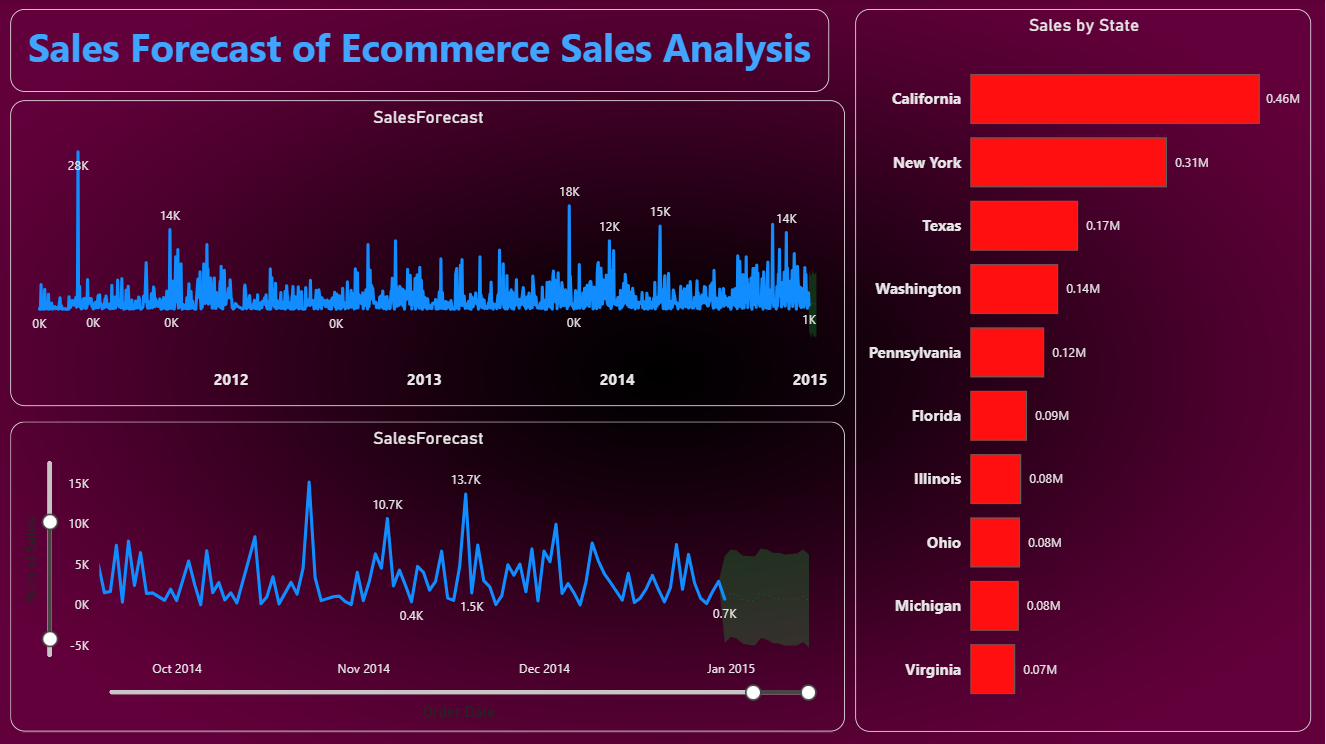

Layout of this report page (visuals, bound fields, positions):
{"tool":"powerbi","page":{"name":"Sales Forecast","canvas":[1280,720],"ordinal":1},"visuals":[{"type":"lineChart","title":"SalesForecast","fields":{"Y":["Sum(Ecommerce Sales Analysis.Sales)"],"Category":["Ecommerce Sales Analysis.Order Date"]},"box":[10.9,407.8,805.9,299.2],"z":0},{"type":"lineChart","title":"SalesForecast","fields":{"Y":["Sum(Ecommerce Sales Analysis.Sales)"],"Category":["Ecommerce Sales Analysis.Order Date"]},"box":[10.9,97.7,805.9,295.6],"z":1000},{"type":"clusteredBarChart","title":"Sales by State","fields":{"Category":["Ecommerce Sales Analysis.State"],"Y":["Sum(Ecommerce Sales Analysis.Sales)"]},"box":[826.4,9.7,440.4,697.3],"z":2000},{"type":"textbox","box":[10.9,9.7,790.2,79.6],"z":3000}]}

Visuals, with their boxes in screenshot pixels (x1, y1, x2, y2), scaled from the page's 1280x720 canvas onto the 1326x744 screenshot:
"SalesForecast" lineChart: Rect(11, 421, 846, 731)
"SalesForecast" lineChart: Rect(11, 101, 846, 406)
"Sales by State" clusteredBarChart: Rect(856, 10, 1312, 731)
textbox: Rect(11, 10, 830, 92)
